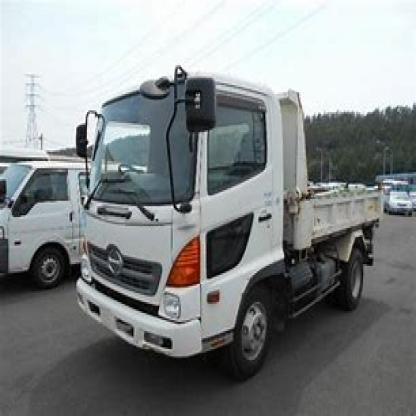dump_truck: (67, 65, 390, 376)
